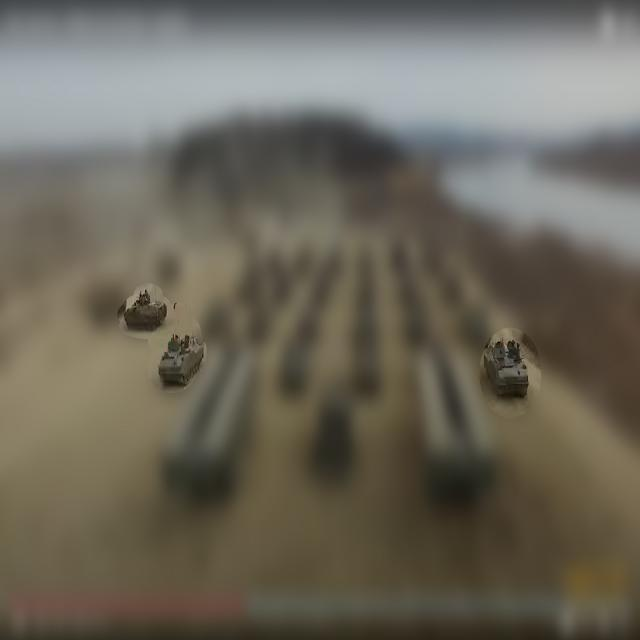tank: (593, 82, 597, 100), (186, 324, 188, 339), (529, 114, 530, 119)
